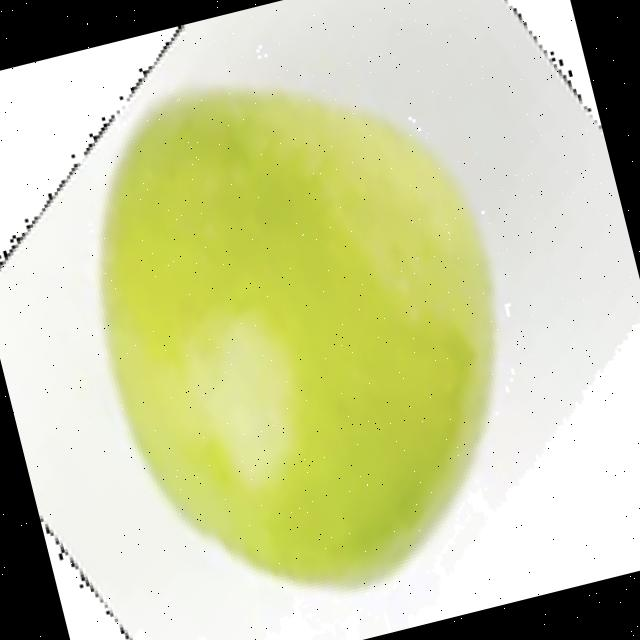apple: (85, 62, 515, 640)
